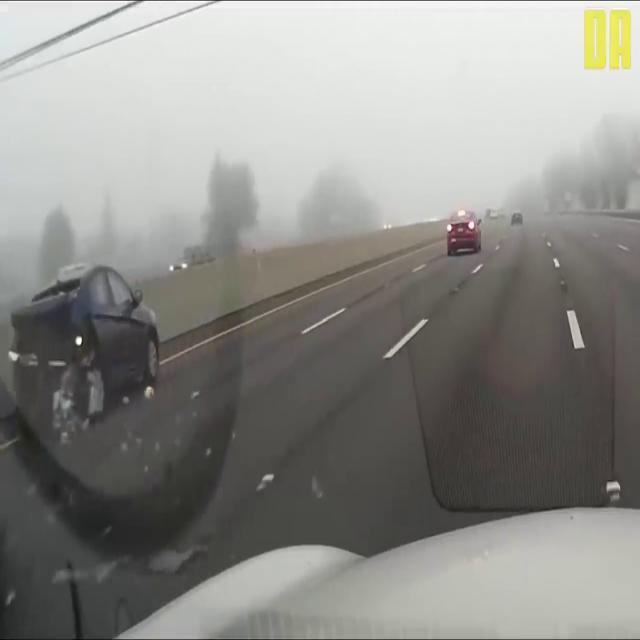normal: (412, 189, 516, 278)
single accident: (0, 225, 188, 456)
